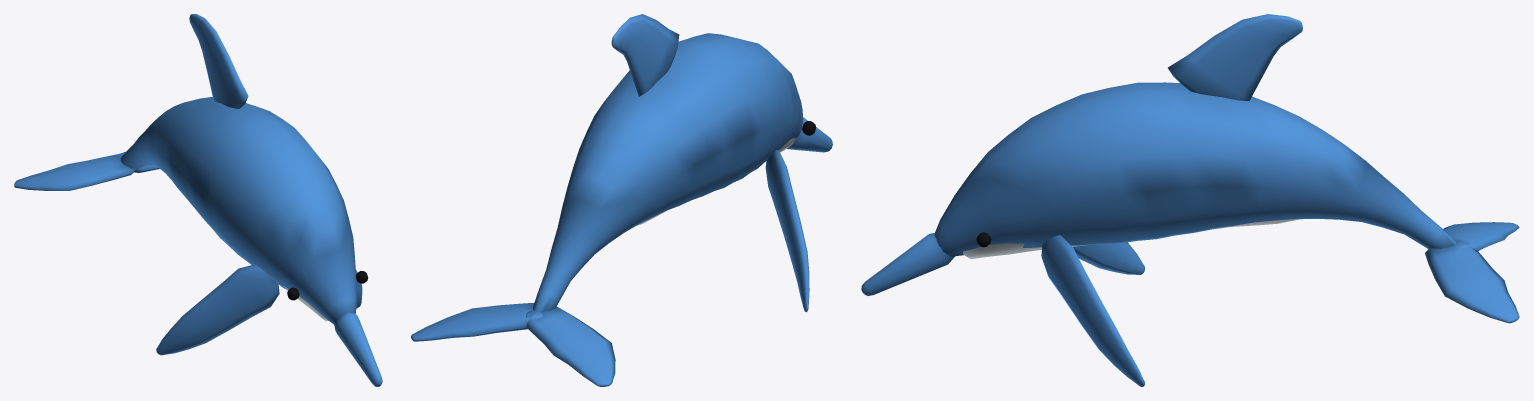
Rendered from dolphin.glb.
3 views of the same model, side by side, from view 1: azimuth 30°, elevation 25°; view 2: azimuth 150°, elevation 25°; view 3: azimuth 270°, elevation 25° (orthographic). The views are drawn at different scales.
Parts seen in each view (by area): view 1: Dolphin; view 2: Dolphin; view 3: Dolphin.
Part boxes in pixels (x1,y1,x2,y2): Dolphin: [14, 14, 382, 386]; Dolphin: [411, 14, 832, 386]; Dolphin: [861, 14, 1519, 386].
Bounding box in the file's own units: 1.28 × 1.63 × 3.07.
